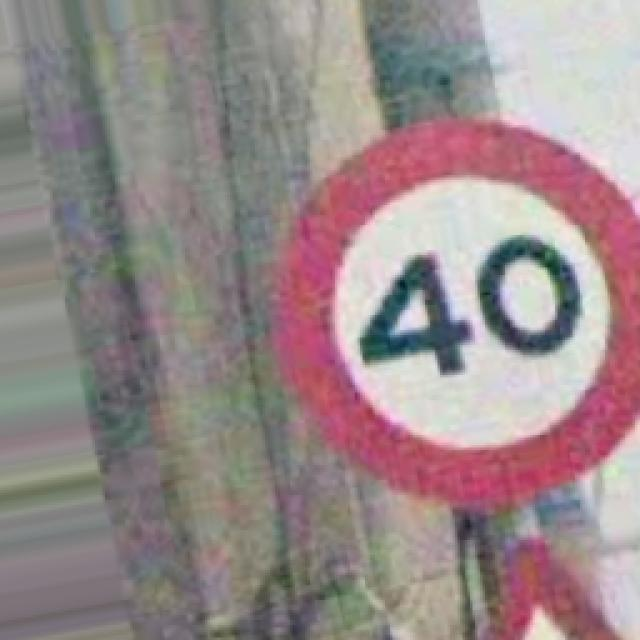Speed Limit -40-: (275, 118, 638, 508)
